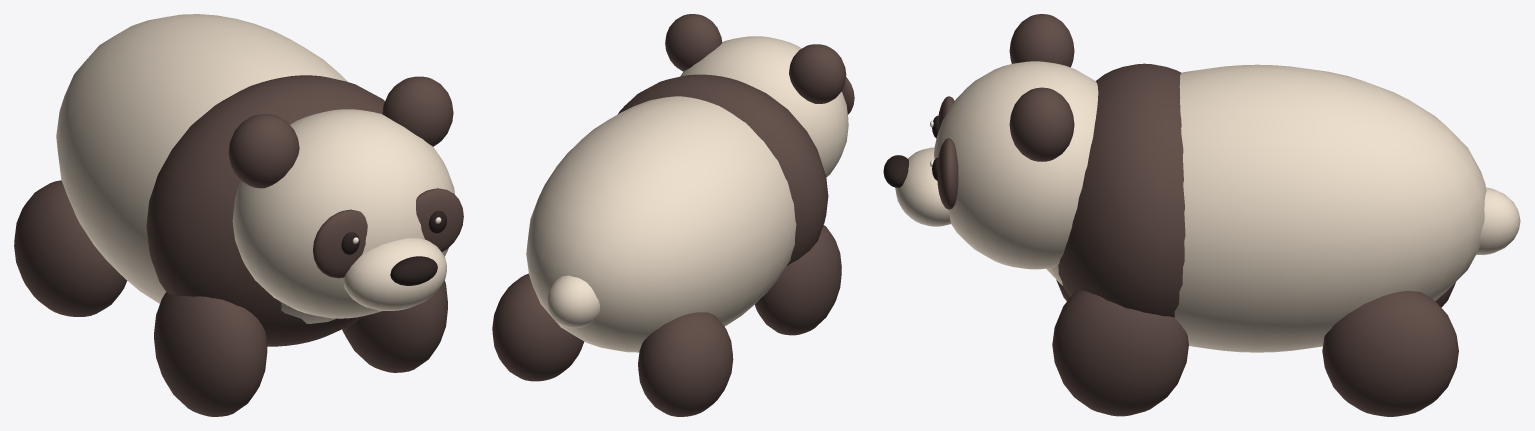
Rendered from bob-poc.fbx.
The picture shows the model from 3 angles, left to right: view 1: azimuth 30°, elevation 25°; view 2: azimuth 150°, elevation 25°; view 3: azimuth 270°, elevation 25°; orthographic projection. The views are drawn at different scales.
Parts seen in each view (by area): view 1: Bob_PoC; view 2: Bob_PoC; view 3: Bob_PoC.
Boxes of the visible parts, <box> form: Bob_PoC: <box>14,14,463,416</box>; Bob_PoC: <box>492,14,854,416</box>; Bob_PoC: <box>883,14,1520,416</box>.
Bounding box in the file's own units: 92 × 102 × 186.
